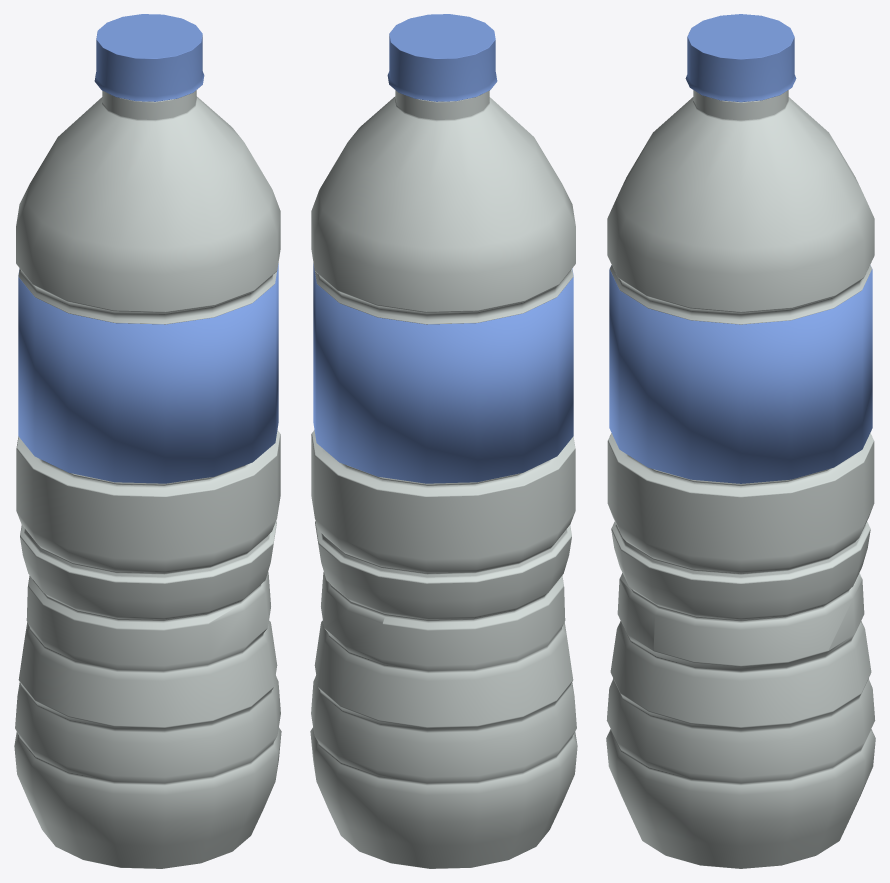
Rendered from botelllini.fbx.
The picture shows the model from 3 angles, left to right: view 1: azimuth 30°, elevation 25°; view 2: azimuth 150°, elevation 25°; view 3: azimuth 270°, elevation 25°; orthographic projection.
Parts seen in each view (by area): view 1: Botella_Cuerpo, Botella_Etiqueta, Botella_Tapa; view 2: Botella_Cuerpo, Botella_Etiqueta, Botella_Tapa; view 3: Botella_Cuerpo, Botella_Etiqueta, Botella_Tapa.
Part boxes in pixels (x1=…): Botella_Cuerpo: x1=14, y1=90, x2=281, y2=868; Botella_Etiqueta: x1=18, y1=263, x2=278, y2=483; Botella_Tapa: x1=94, y1=14, x2=204, y2=101; Botella_Cuerpo: x1=310, y1=90, x2=577, y2=868; Botella_Etiqueta: x1=313, y1=263, x2=573, y2=483; Botella_Tapa: x1=387, y1=14, x2=497, y2=101; Botella_Cuerpo: x1=606, y1=90, x2=875, y2=868; Botella_Etiqueta: x1=609, y1=265, x2=872, y2=483; Botella_Tapa: x1=685, y1=14, x2=796, y2=102.
Bounding box in the file's own units: 20.53 × 66.2 × 20.53.
